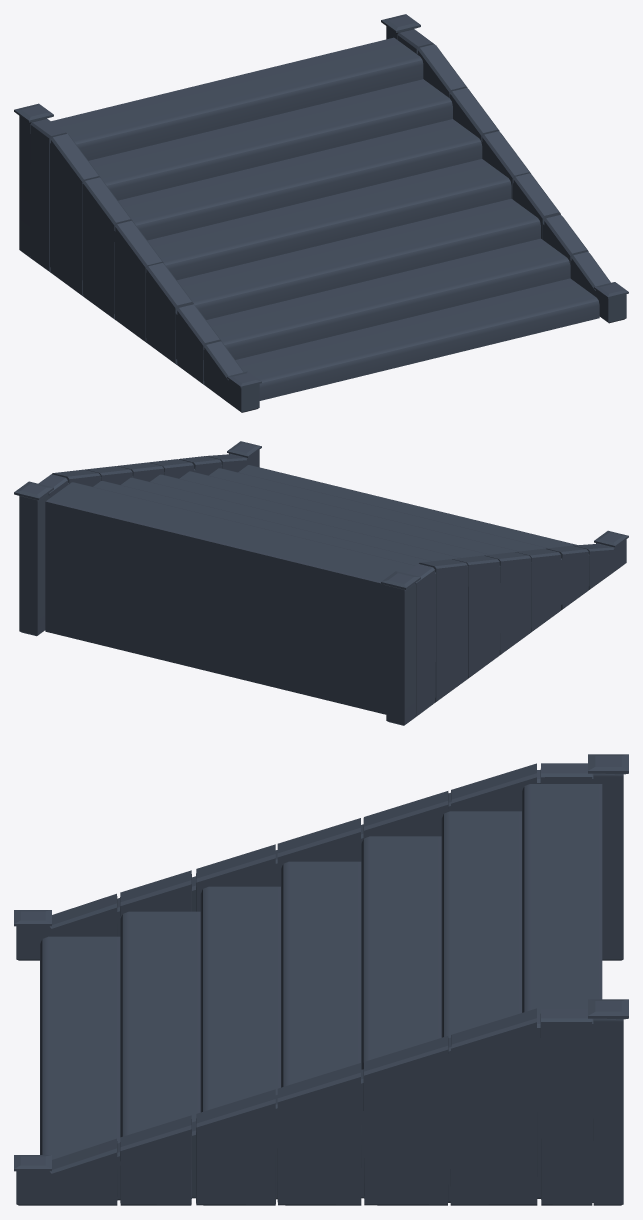
The model's file is stairsModel_V01.fbx.
3 renders of one model, top to bottom at view 1: azimuth 30°, elevation 25°; view 2: azimuth 150°, elevation 25°; view 3: azimuth 270°, elevation 25°, orthographic. The views are drawn at different scales.
Parts seen in each view (by area): view 1: stairs_geo; view 2: stairs_geo; view 3: stairs_geo.
Boxes of the visible parts, left/top/right/bottom form: stairs_geo: left=14, top=14, right=628, bottom=412; stairs_geo: left=14, top=441, right=628, bottom=725; stairs_geo: left=14, top=754, right=628, bottom=1205.
Bounding box in the file's own units: 176 × 175 × 61.05.
